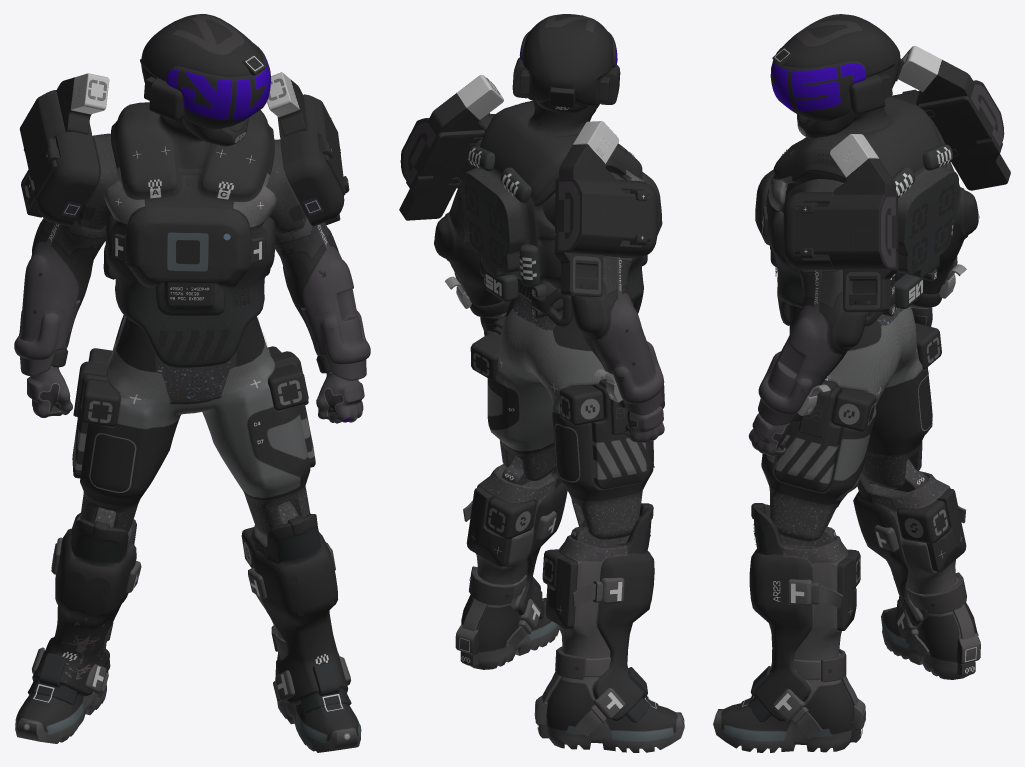
The model's file is shadow_index.glb.
3 views of the same model, side by side, from view 1: azimuth 30°, elevation 25°; view 2: azimuth 150°, elevation 25°; view 3: azimuth 270°, elevation 25° (orthographic). The views are drawn at different scales.
Visible parts, largest first — view 1: chest_low3, legs_main_low3, calf_main_low4, arm_low4, shoulder_back_low5, shoulder_front_low1, shell_low1, visor_low1, shoulder_low2, hands_low1, thigh_thruster_boxes_low1, thigh_thruster_door_low1 (+10 smaller); view 2: calf_main_low4, shoulder_back_low5, legs_main_low3, chest_low3, arm_low4, shell_low1, thigh_thruster_door_low1, calf_thruster_door_low1, thigh_thruster_boxes_low1, calf_thruster_box_low1, ankle_strap_02_low1, shoulder_front_low1 (+19 smaller); view 3: calf_main_low4, shoulder_back_low5, legs_main_low3, chest_low3, arm_low4, shell_low1, thigh_thruster_door_low1, visor_low1, calf_thruster_door_low1, shoulder_front_low1, thigh_thruster_boxes_low1, calf_thruster_box_low1 (+17 smaller).
Boxes of the visible parts, x1=… form: chest_low3: x1=104, y1=102, x2=276, y2=367; legs_main_low3: x1=80, y1=315, x2=310, y2=536; calf_main_low4: x1=15, y1=513, x2=361, y2=752; arm_low4: x1=14, y1=216, x2=370, y2=380; shoulder_back_low5: x1=19, y1=72, x2=345, y2=224; shoulder_front_low1: x1=35, y1=131, x2=344, y2=226; shell_low1: x1=140, y1=14, x2=262, y2=82; visor_low1: x1=166, y1=43, x2=271, y2=129; shoulder_low2: x1=77, y1=133, x2=305, y2=233; hands_low1: x1=27, y1=366, x2=364, y2=423; thigh_thruster_boxes_low1: x1=80, y1=346, x2=308, y2=426; thigh_thruster_door_low1: x1=72, y1=351, x2=315, y2=478; calf_main_low4: x1=461, y1=464, x2=684, y2=752; shoulder_back_low5: x1=399, y1=74, x2=651, y2=297; legs_main_low3: x1=487, y1=294, x2=653, y2=539; chest_low3: x1=461, y1=101, x2=662, y2=313; arm_low4: x1=434, y1=183, x2=664, y2=415; shell_low1: x1=522, y1=14, x2=612, y2=113; thigh_thruster_door_low1: x1=493, y1=315, x2=646, y2=489; calf_thruster_door_low1: x1=466, y1=487, x2=577, y2=628; thigh_thruster_boxes_low1: x1=470, y1=331, x2=664, y2=425; calf_thruster_box_low1: x1=485, y1=497, x2=564, y2=588; ankle_strap_02_low1: x1=469, y1=566, x2=585, y2=679; shoulder_front_low1: x1=449, y1=114, x2=657, y2=258; calf_main_low4: x1=713, y1=471, x2=976, y2=752; shoulder_back_low5: x1=794, y1=46, x2=1010, y2=312; legs_main_low3: x1=761, y1=304, x2=932, y2=541; chest_low3: x1=755, y1=96, x2=958, y2=325; arm_low4: x1=758, y1=162, x2=978, y2=425; shell_low1: x1=780, y1=14, x2=903, y2=98; thigh_thruster_door_low1: x1=774, y1=380, x2=841, y2=492; visor_low1: x1=770, y1=46, x2=866, y2=121; calf_thruster_door_low1: x1=837, y1=488, x2=966, y2=630; shoulder_front_low1: x1=783, y1=90, x2=958, y2=270; thigh_thruster_boxes_low1: x1=831, y1=323, x2=941, y2=431; calf_thruster_box_low1: x1=845, y1=500, x2=949, y2=589.
Bounding box in the file's own units: 0.8451 × 1.84 × 0.7301.
8 materials, 7 textured.
